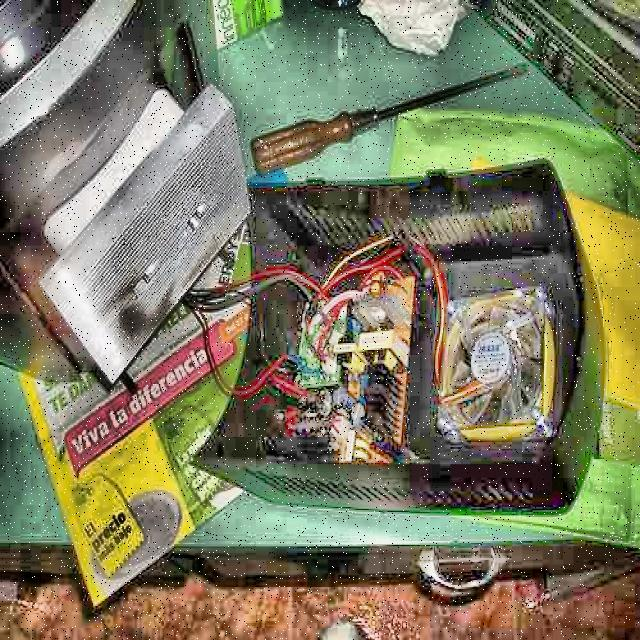screwdriver: (251, 61, 529, 173)
